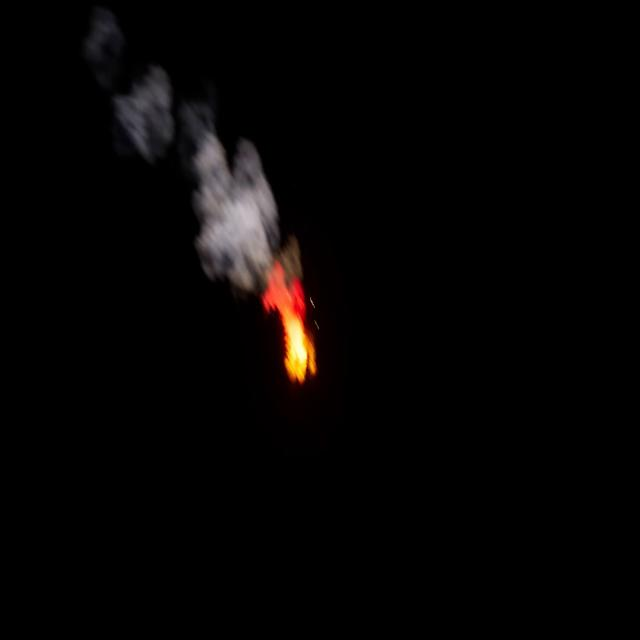fire: (262, 257, 317, 385)
smoke: (116, 65, 300, 291)
